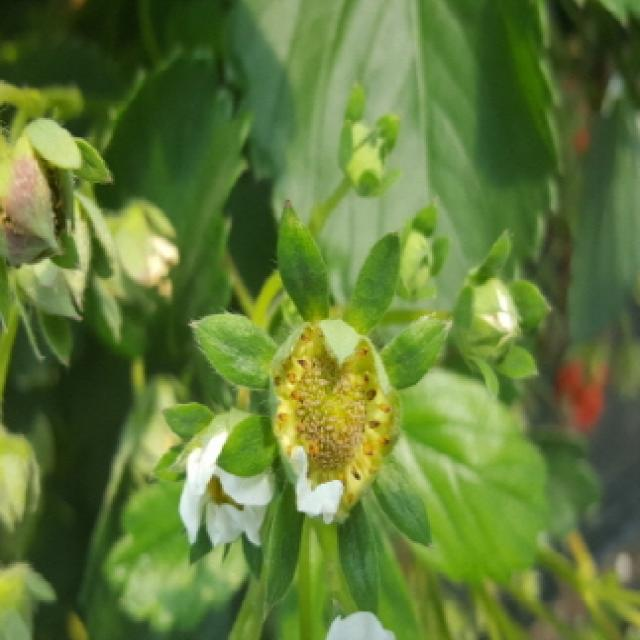Blossom Blight: (269, 323, 404, 502)
